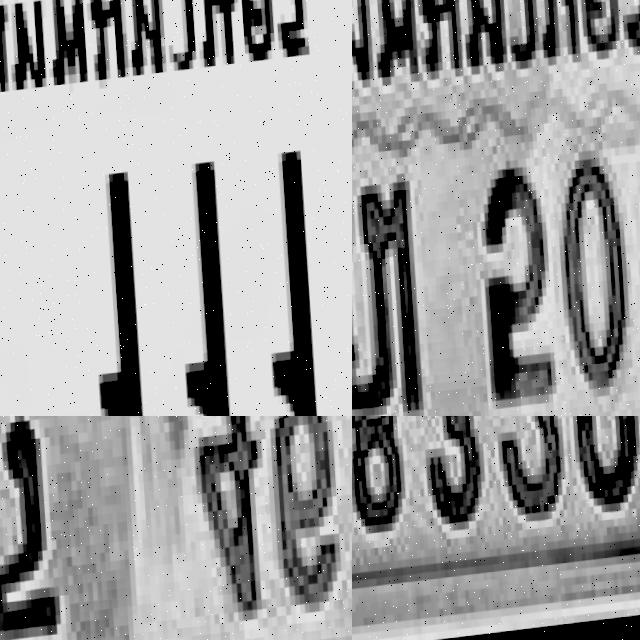license-plate: (0, 0, 352, 416), (352, 0, 640, 416), (0, 416, 352, 640), (352, 416, 640, 640)
